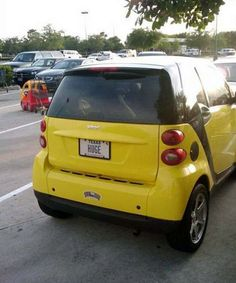license plate: (77, 137, 110, 159)
